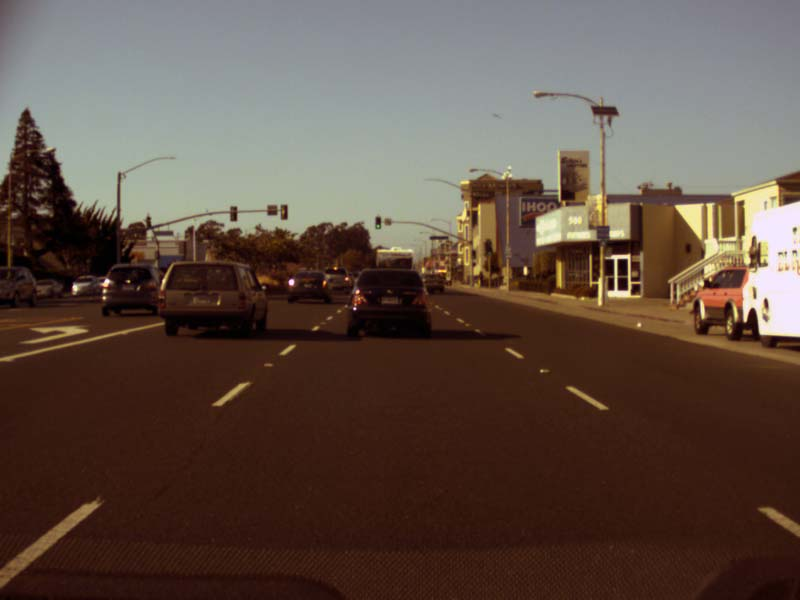Green: (485, 242, 492, 254), (374, 217, 380, 229), (471, 250, 475, 258)
